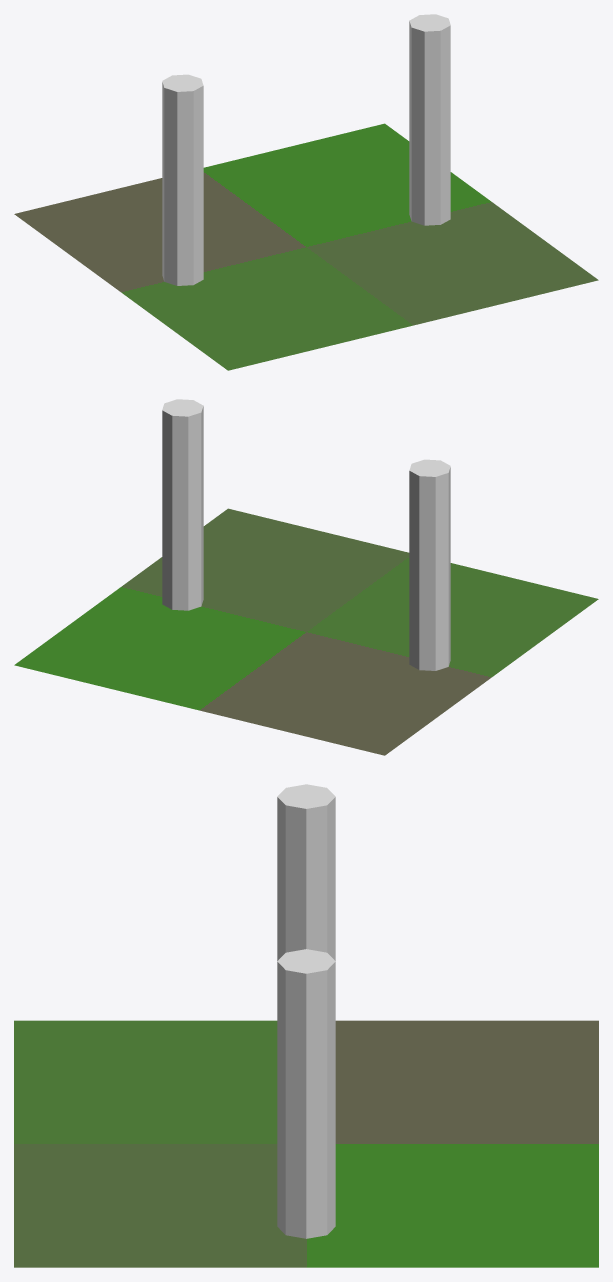
Rendered from multi_scene_levels.out_level2.glb.
3 views of the same model, one above another, from view 1: azimuth 30°, elevation 25°; view 2: azimuth 150°, elevation 25°; view 3: azimuth 270°, elevation 25° (orthographic). The views are drawn at different scales.
Parts seen in each view (by area): view 1: Plane.001, ColumnA, ColumnB; view 2: Plane.001, ColumnA, ColumnB; view 3: Plane.001, ColumnA, ColumnB.
Boxes of the visible parts, x1,y1,x2,y2 form: Plane.001: (14,123,598,370); ColumnA: (409,14,450,225); ColumnB: (162,74,203,285); Plane.001: (14,508,598,755); ColumnA: (162,399,203,610); ColumnB: (409,459,450,670); Plane.001: (14,1020,598,1267); ColumnA: (277,949,335,1238); ColumnB: (277,784,335,960).
Size of the model in its own units: 6 by 3 by 6.
Materials: 1 (1 with a texture image).
